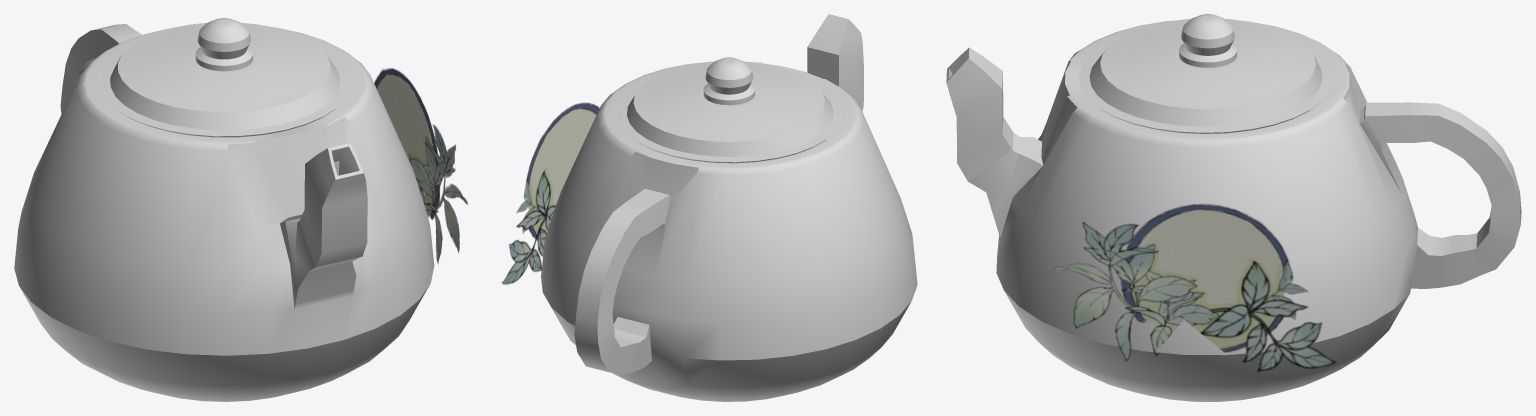
File: chahu.glb
3 views of the same model, side by side, from view 1: azimuth 30°, elevation 25°; view 2: azimuth 150°, elevation 25°; view 3: azimuth 270°, elevation 25° (orthographic). The views are drawn at different scales.
Visible parts, largest first — view 1: teapot_3, 未命名作品(1); view 2: teapot_3, 未命名作品(1); view 3: teapot_3, 未命名作品(1).
Part boxes in pixels (x1,y1,x2,y2): teapot_3: (14, 18, 434, 401); 未命名作品(1): (374, 68, 467, 263); teapot_3: (541, 14, 917, 401); 未命名作品(1): (502, 102, 599, 284); teapot_3: (946, 14, 1521, 401); 未命名作品(1): (1053, 204, 1335, 371).
Bounding box in the file's own units: 2.62 × 2.21 × 3.47.
2 materials, 1 textured.
